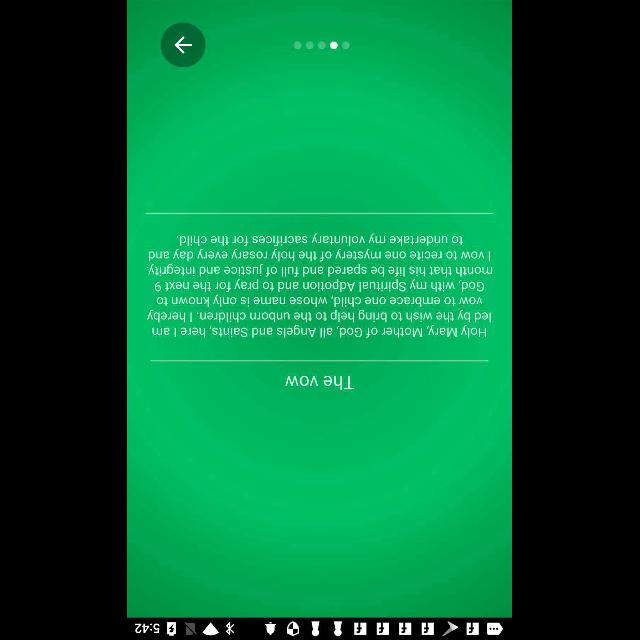button: (161, 22, 207, 68)
pageindicator: (293, 40, 351, 50)
text: (147, 232, 493, 338), (286, 376, 356, 390)
uppertaskbar: (128, 617, 512, 639)
